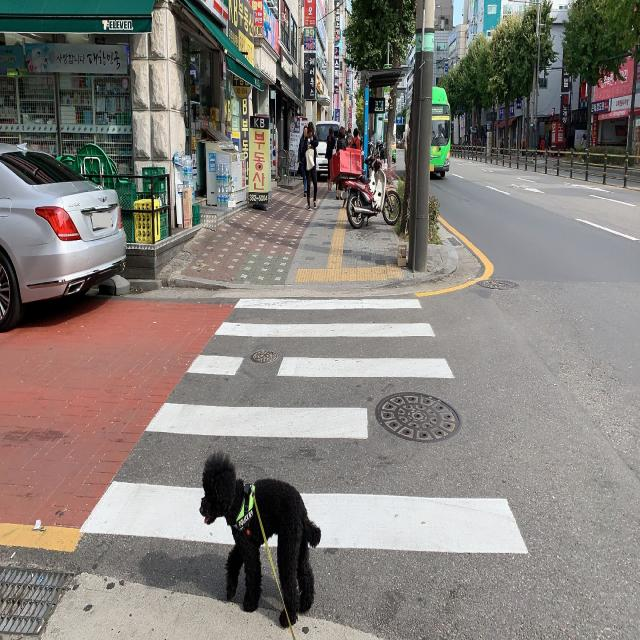횡단보도: (76, 290, 533, 561)
